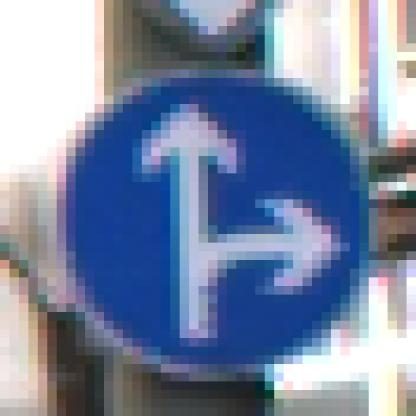Straight or Right: (49, 53, 361, 365)
